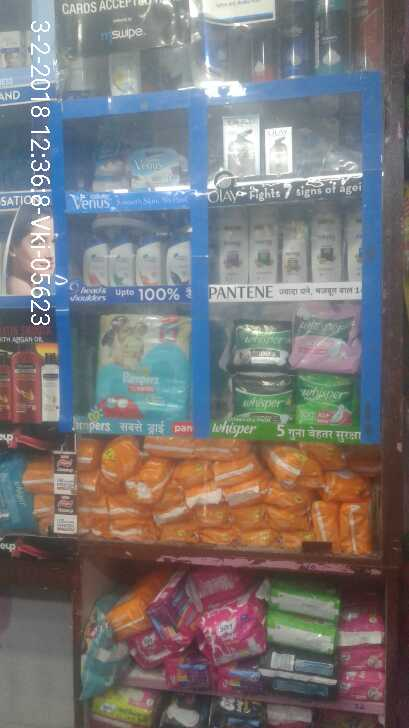gillete: (311, 1, 349, 72), (280, 1, 309, 75), (249, 21, 274, 83)
venus: (88, 121, 132, 191), (132, 146, 184, 191)
